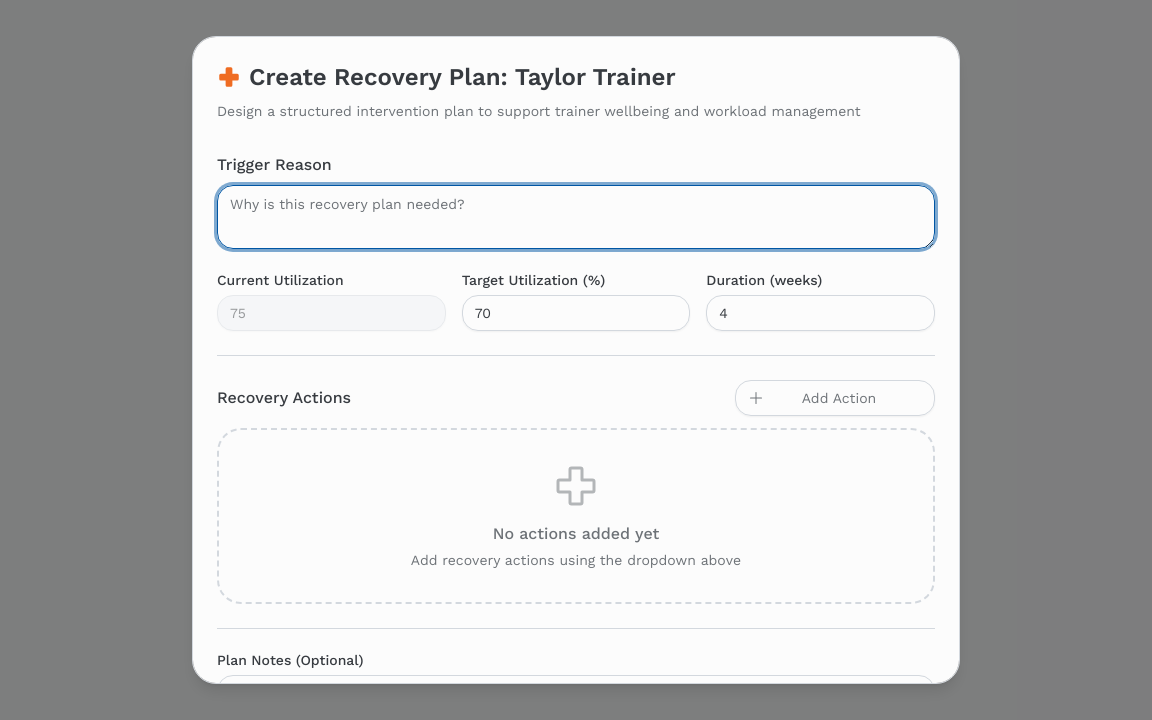
Scenario: RecoveryPlanDialog › displays validation error when actions list becomes empty after removal
The width and height of the screenshot is (1152, 720).
Type "Test reason" into the text box labelled "Trigger Reason" at x=576, y=217, box [217,185,935,249]
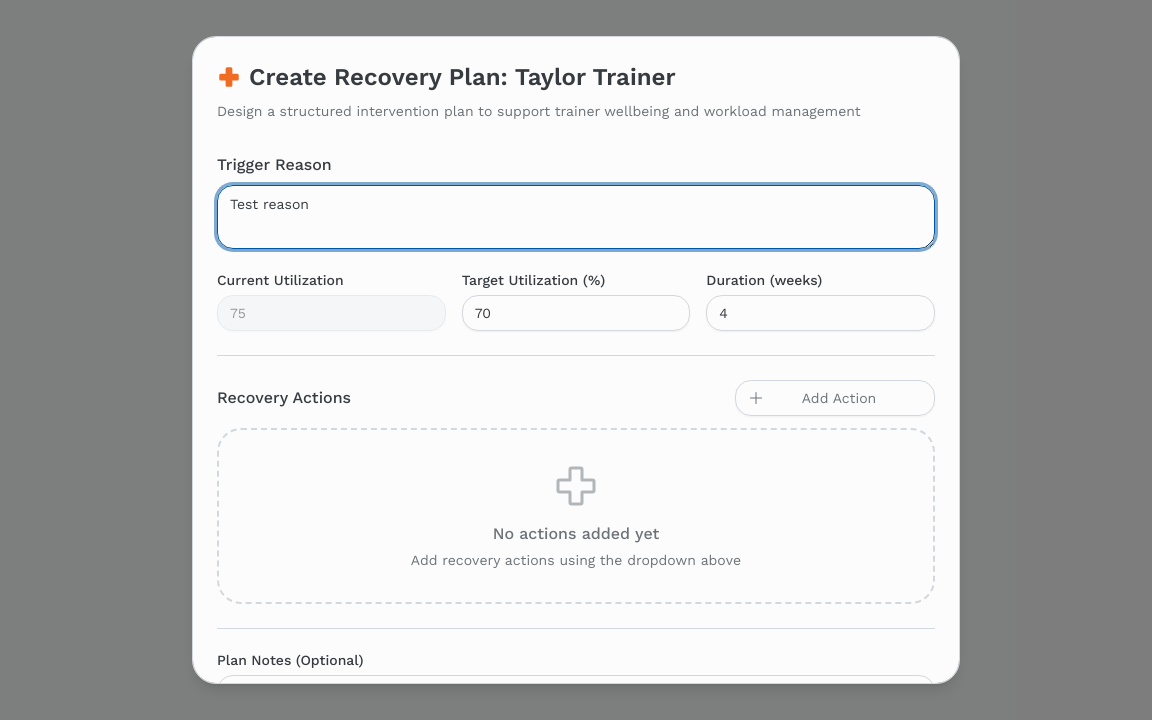
Click the dropdown at x=835, y=398, box [735,380,935,416]
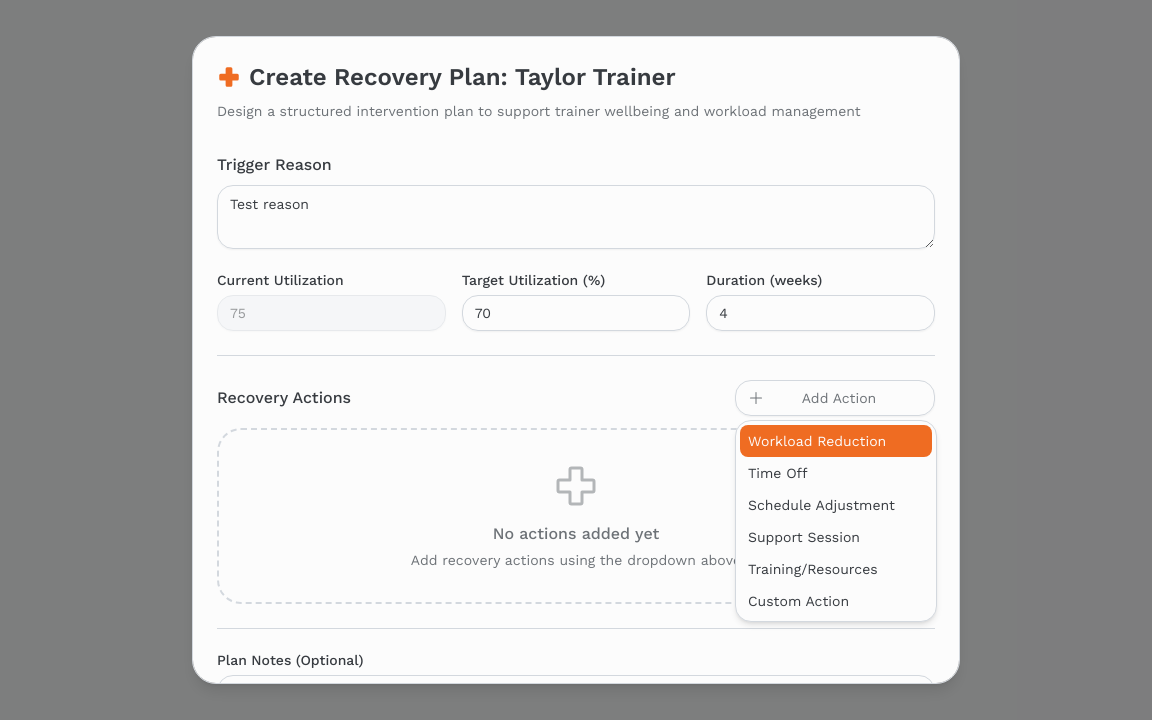
Click the option "Workload Reduction" at x=836, y=441, box [740,425,932,457]
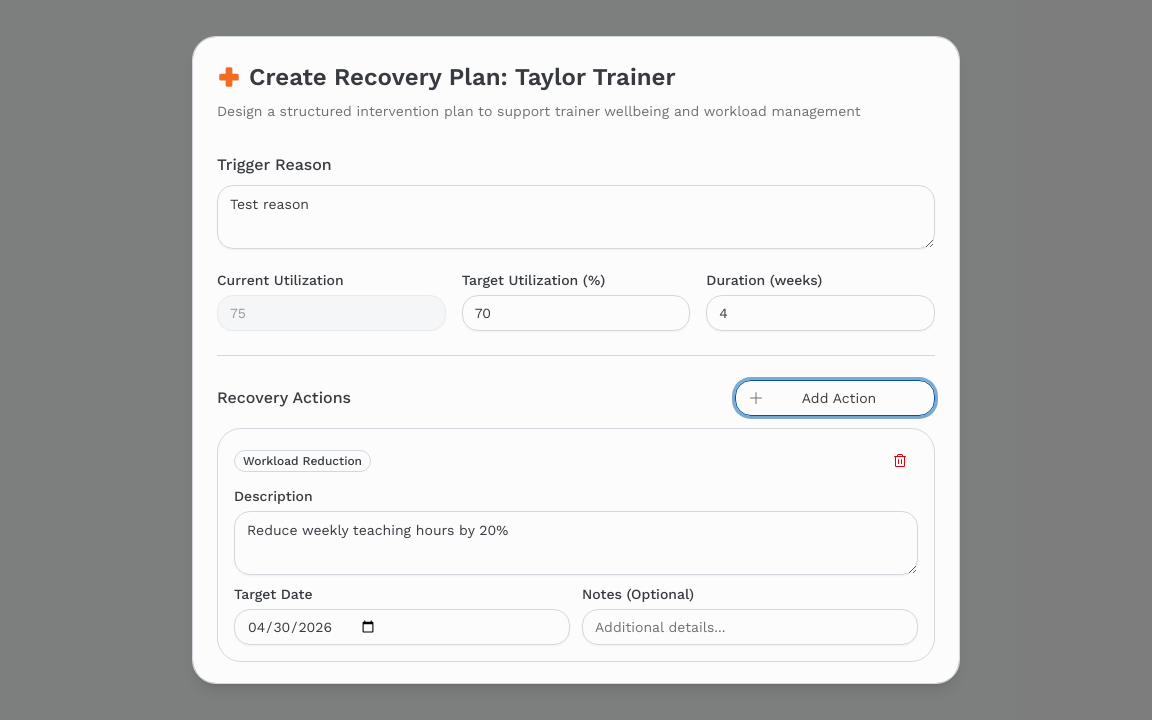
Click the button named "remove action workload reduction" at x=900, y=461, box [882,445,918,477]
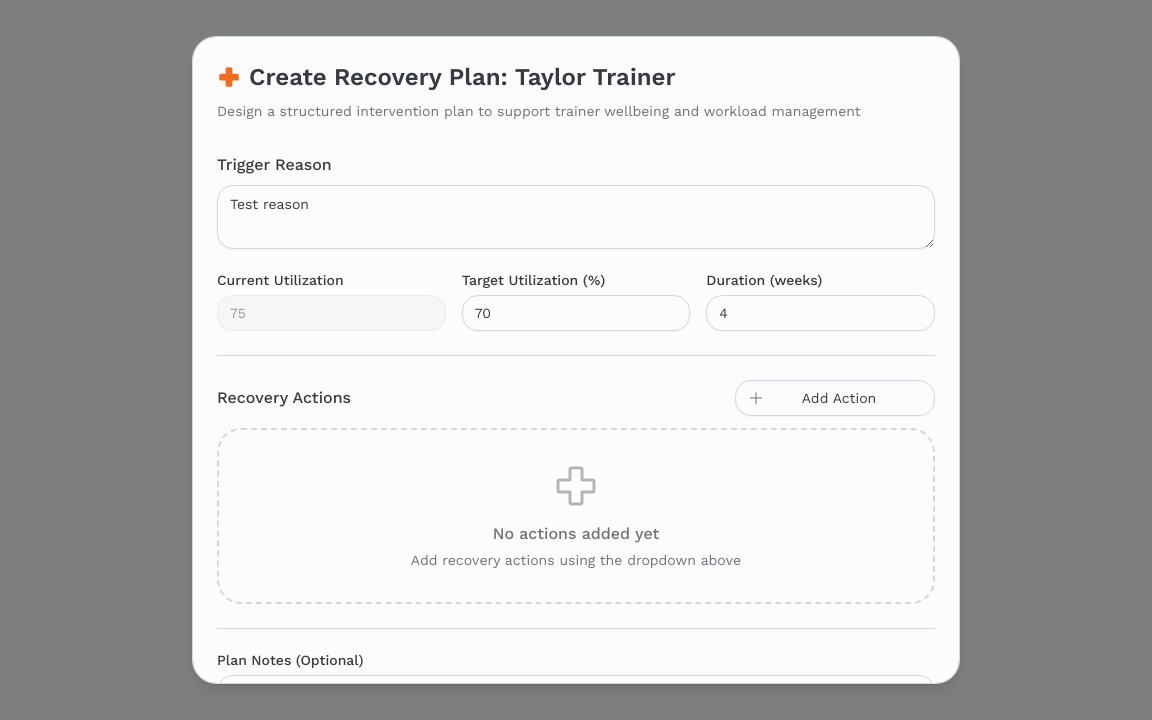
Now the text "No actions added yet" is shown, box [493,524,659,543]
